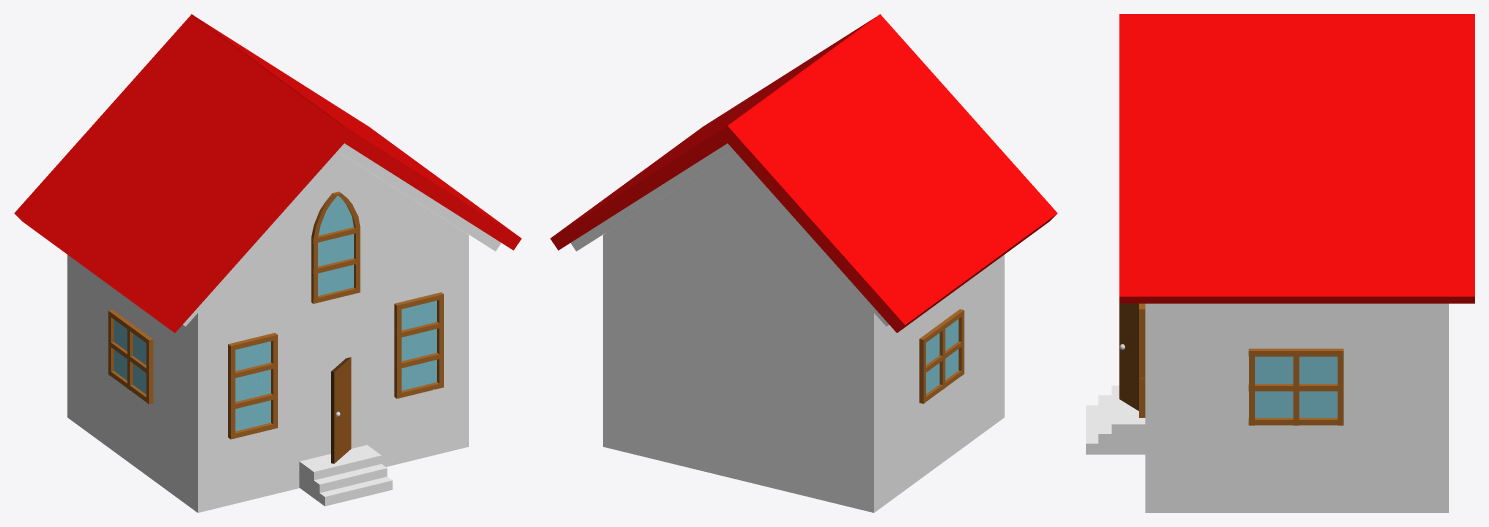
File: house_animetion.fbx
The picture shows the model from 3 angles, left to right: view 1: azimuth 30°, elevation 25°; view 2: azimuth 150°, elevation 25°; view 3: azimuth 270°, elevation 25°; orthographic projection. The views are drawn at different scales.
Parts seen in each view (by area): view 1: polySurface50, polySurface51; view 2: polySurface50; view 3: polySurface50, polySurface51.
Part boxes in pixels (x1,y1,x2,y2): polySurface50: [14, 14, 521, 512]; polySurface51: [331, 357, 351, 463]; polySurface50: [550, 14, 1057, 512]; polySurface50: [1086, 14, 1474, 512]; polySurface51: [1119, 303, 1138, 410].
Bounding box in the file's own units: 7.86 × 7.66 × 6.4.
2 materials, 2 textured.
